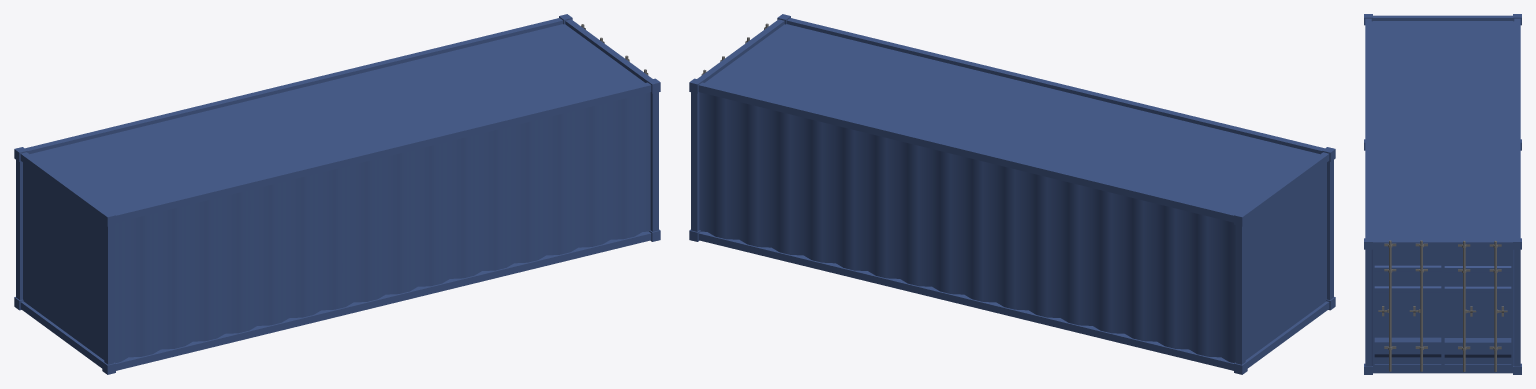
File: close container.fbx
3 views of the same model, side by side, from view 1: azimuth 30°, elevation 25°; view 2: azimuth 150°, elevation 25°; view 3: azimuth 270°, elevation 25° (orthographic). The views are drawn at different scales.
Parts seen in each view (by area): view 1: polySurface29; view 2: polySurface29; view 3: polySurface29.
Boxes of the visible parts, x1,y1,x2,y2 form: polySurface29: (14, 14, 660, 374); polySurface29: (689, 14, 1335, 374); polySurface29: (1364, 14, 1521, 374).
Bounding box in the file's own units: 947 × 258 × 276.
